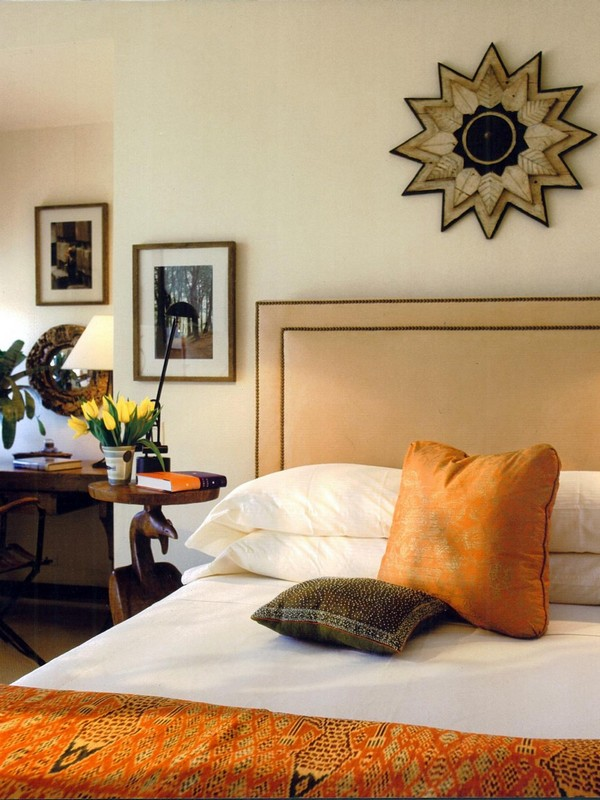bed: (26, 312, 591, 797)
lamp: (56, 316, 122, 426)
stool: (88, 468, 220, 627)
